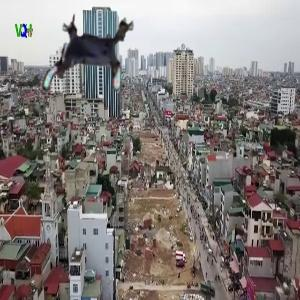drone: (40, 7, 139, 106)
